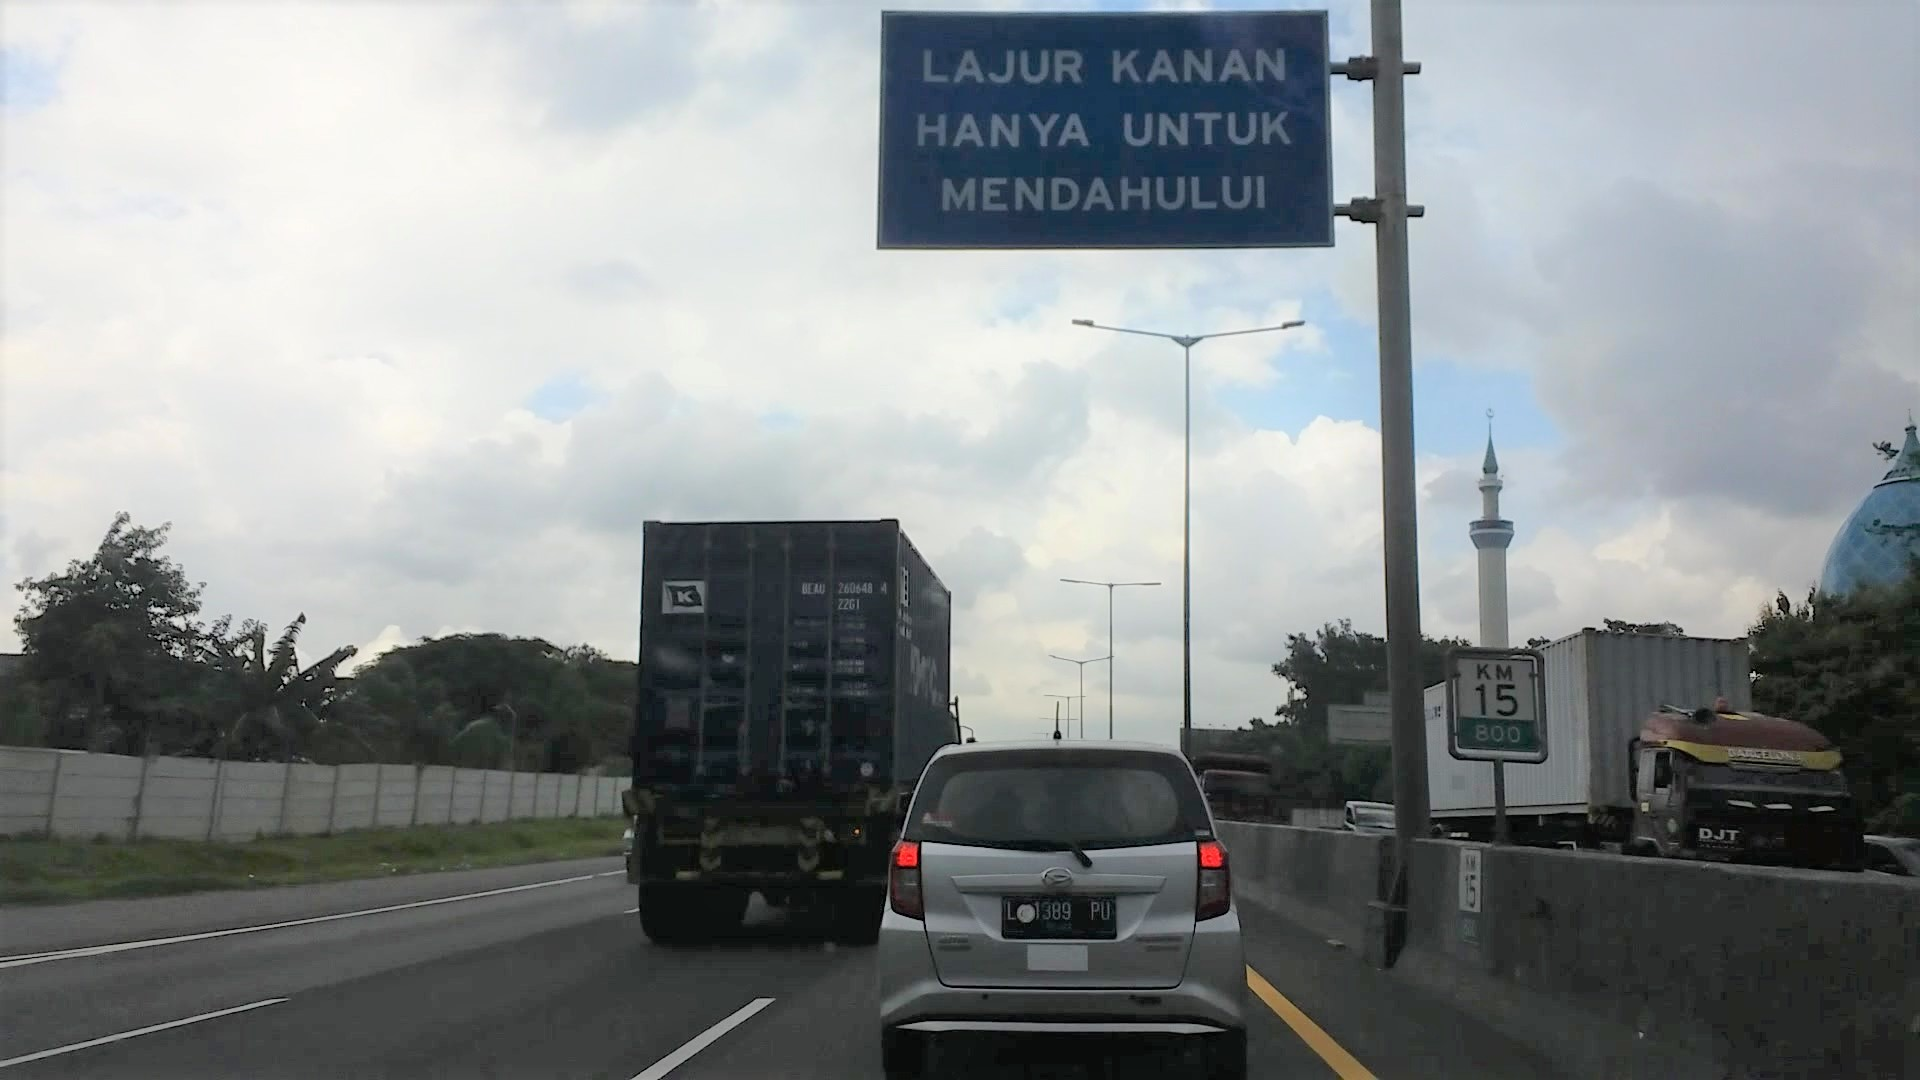plate_positive: (1001, 895, 1117, 940)
